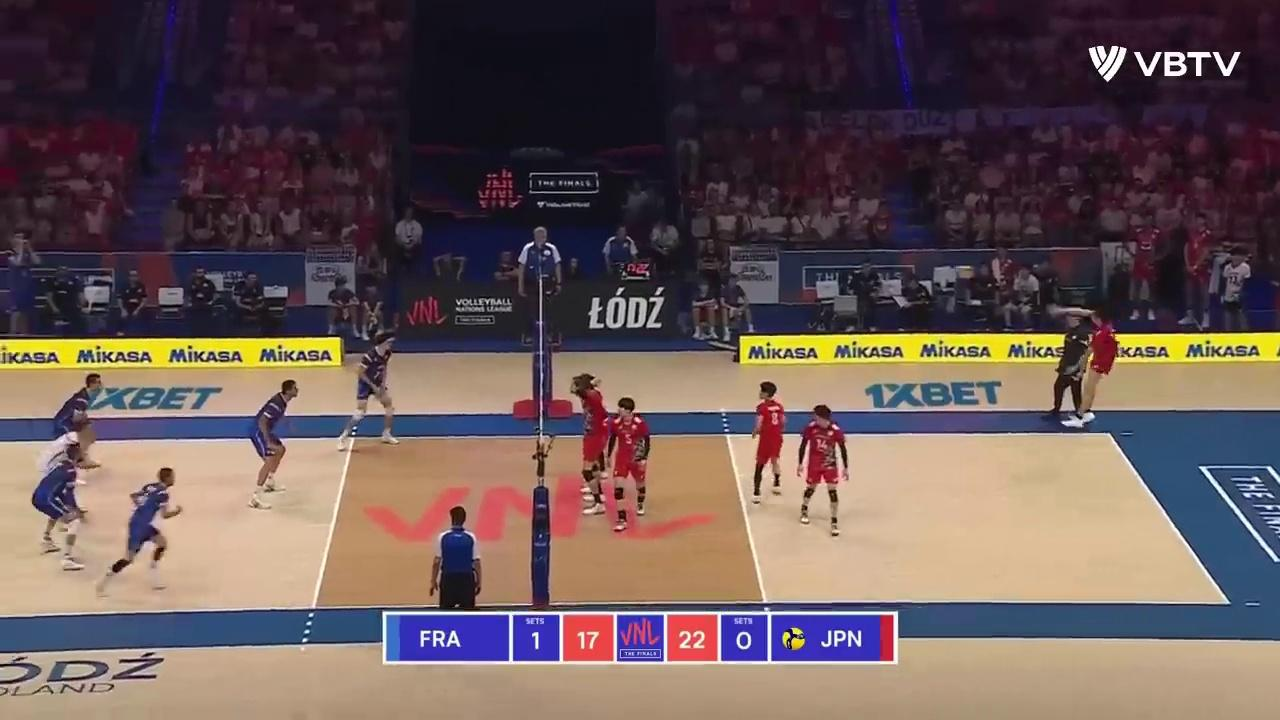ball: (955, 266, 974, 280)
